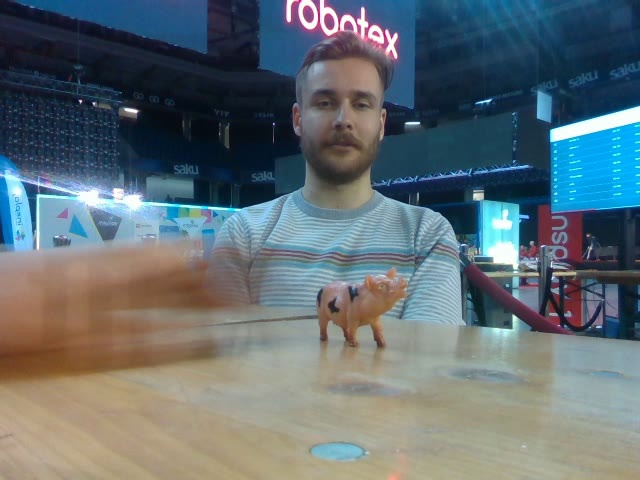toy: (317, 266, 407, 348)
